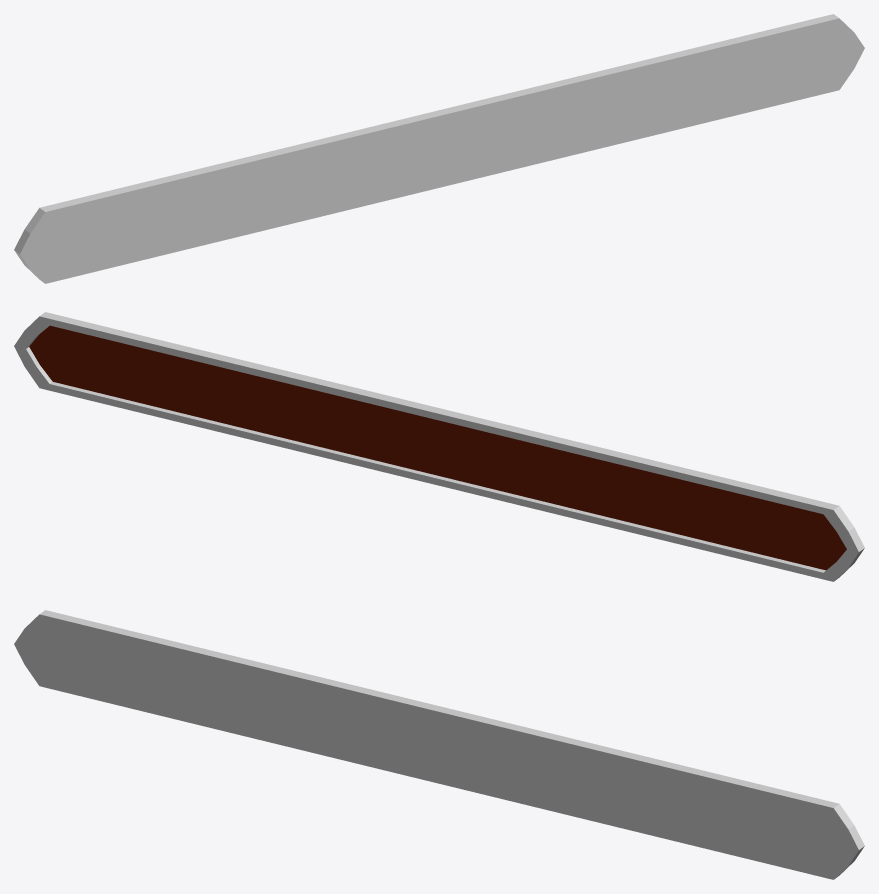
Rendered from median-dirt-barrier-01.fbx.
3 views of the same model, one above another, from view 1: azimuth 30°, elevation 25°; view 2: azimuth 150°, elevation 25°; view 3: azimuth 330°, elevation 25° (orthographic).
Parts seen in each view (by area): view 1: median-dirt-barrier-01; view 2: median-dirt-barrier-01; view 3: median-dirt-barrier-01.
Part boxes in pixels (box(x1,y1,x2,y2)): median-dirt-barrier-01: box(14, 14, 864, 283); median-dirt-barrier-01: box(14, 312, 864, 581); median-dirt-barrier-01: box(14, 610, 864, 879).
Size of the model in its own units: 30.81 by 2.5 by 0.3751.
